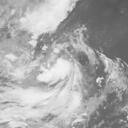cyclone: (35, 54, 78, 92)
